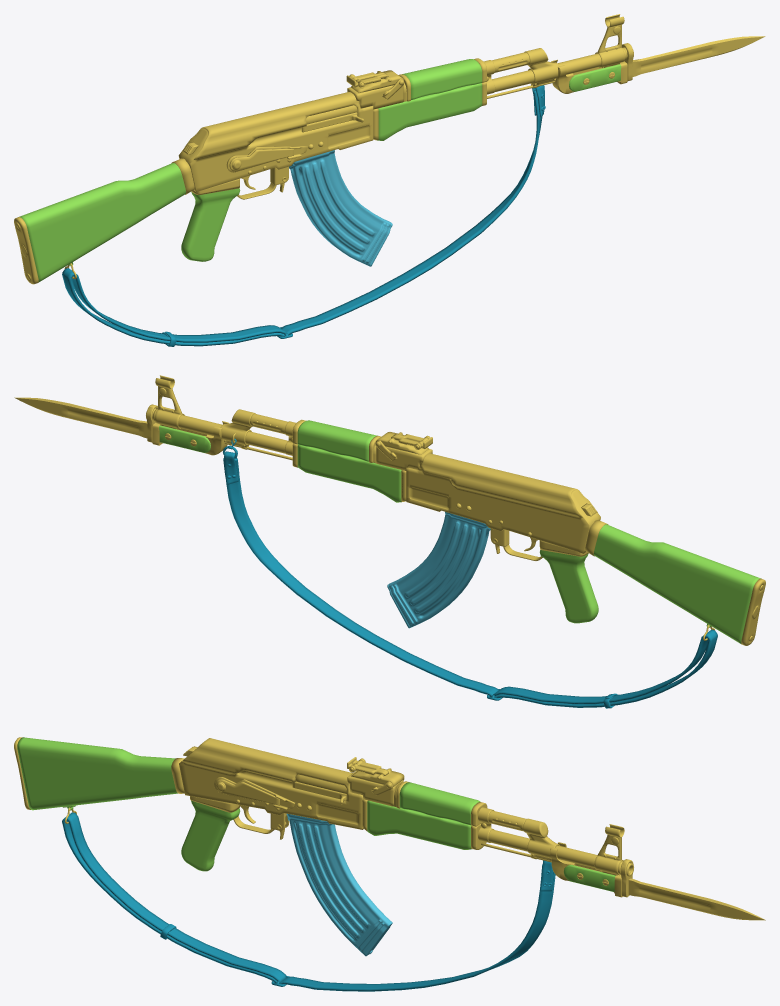
3 renders of one model, top to bottom at view 1: azimuth 30°, elevation 25°; view 2: azimuth 150°, elevation 25°; view 3: azimuth 330°, elevation 25°, orthographic.
Visible parts, largest first — view 1: objChiT56, Object01, objSling1, objMagazine; view 2: objChiT56, Object01, objSling1, objMagazine; view 3: objChiT56, Object01, objSling1, objMagazine.
Part boxes in pixels (x1,y1,x2,y2): objChiT56: (14, 14, 765, 284); Object01: (19, 59, 621, 282); objSling1: (62, 85, 544, 346); objMagazine: (289, 150, 392, 266); objChiT56: (14, 375, 765, 645); Object01: (159, 420, 760, 643); objSling1: (223, 451, 717, 708); objMagazine: (387, 512, 490, 628); objChiT56: (14, 737, 765, 920); Object01: (17, 737, 615, 891); objSling1: (62, 812, 555, 991); objMagazine: (286, 813, 392, 956).
Size of the model in its own units: 3499 by 1067 by 157.
